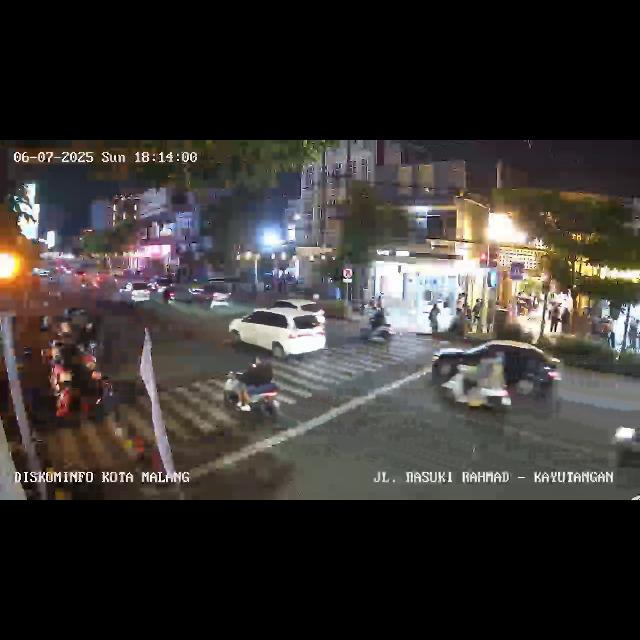car: (427, 338, 561, 408), (230, 306, 330, 362), (254, 298, 326, 326), (188, 279, 232, 309), (116, 281, 154, 307)
motorcycle: (434, 349, 514, 419), (222, 352, 284, 426), (358, 306, 394, 346), (162, 280, 176, 308)
person: (428, 303, 438, 337), (471, 297, 481, 329), (550, 304, 560, 334), (560, 304, 570, 334), (454, 292, 464, 320), (606, 319, 616, 345), (628, 320, 636, 350), (374, 290, 384, 310)
